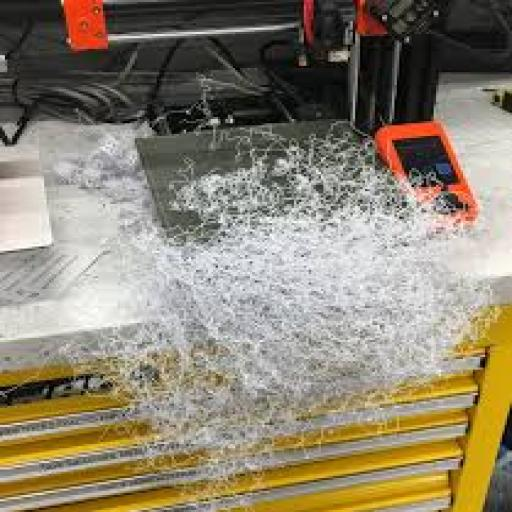spaghetti: (90, 166, 418, 441)
